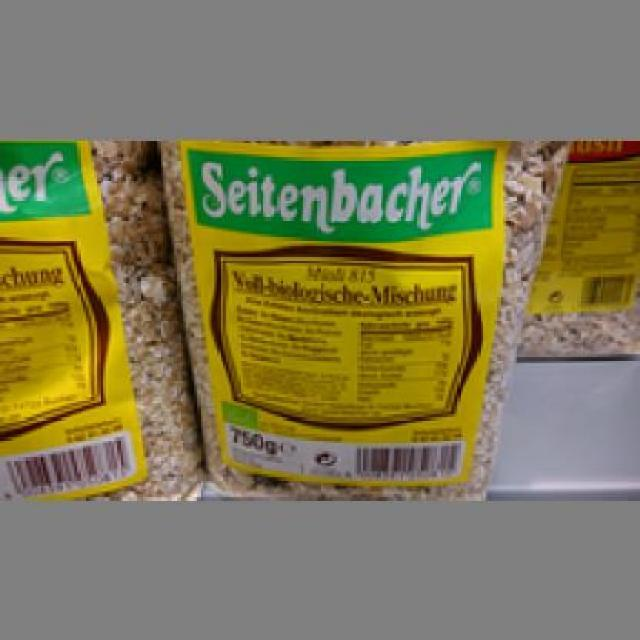Cereal: (154, 140, 563, 500), (0, 137, 209, 494)
